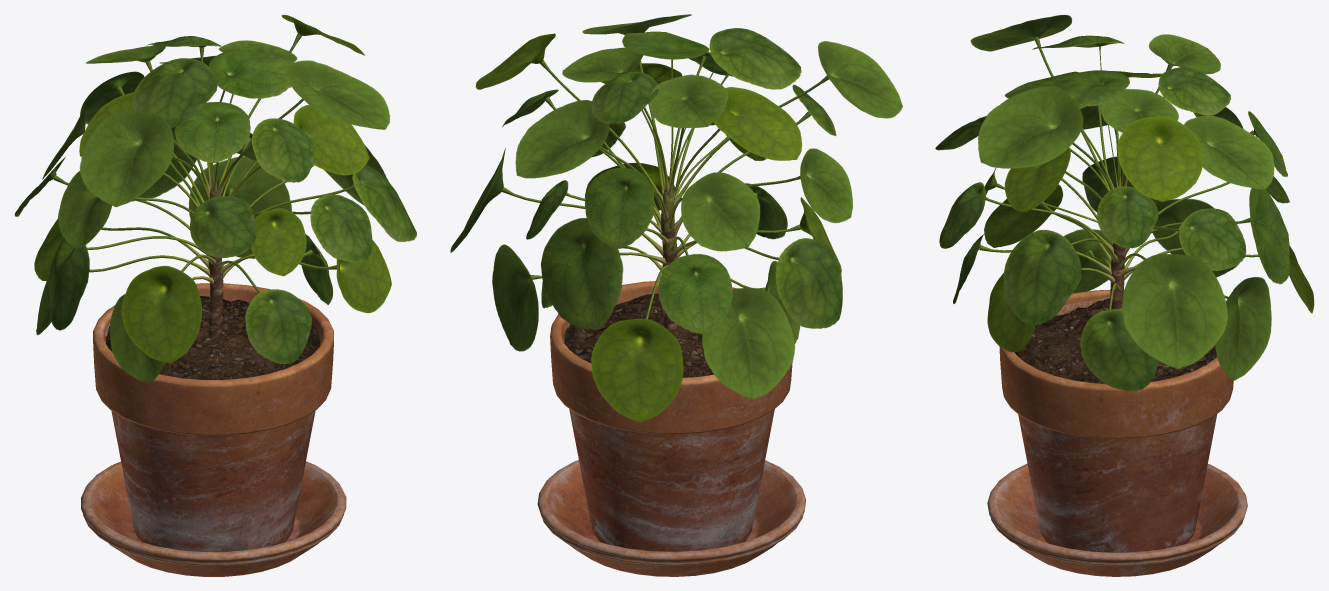
File: pilea.glb
3 renders of one model, left to right at view 1: azimuth 30°, elevation 25°; view 2: azimuth 150°, elevation 25°; view 3: azimuth 270°, elevation 25°, orthographic. The views are drawn at different scales.
Parts seen in each view (by area): view 1: PILEA_PEPEROMIOIDES, POT_TERRACOTTA_SMALL; view 2: PILEA_PEPEROMIOIDES, POT_TERRACOTTA_SMALL; view 3: PILEA_PEPEROMIOIDES, POT_TERRACOTTA_SMALL.
Part boxes in pixels (bbox=[...]): PILEA_PEPEROMIOIDES: bbox=[14, 14, 416, 383]; POT_TERRACOTTA_SMALL: bbox=[81, 283, 346, 576]; PILEA_PEPEROMIOIDES: bbox=[450, 14, 902, 422]; POT_TERRACOTTA_SMALL: bbox=[537, 281, 806, 576]; PILEA_PEPEROMIOIDES: bbox=[935, 15, 1314, 391]; POT_TERRACOTTA_SMALL: bbox=[987, 290, 1247, 576].
Bounding box in the file's own units: 0.368 × 0.4783 × 0.3456.
2 materials, 2 textured.
